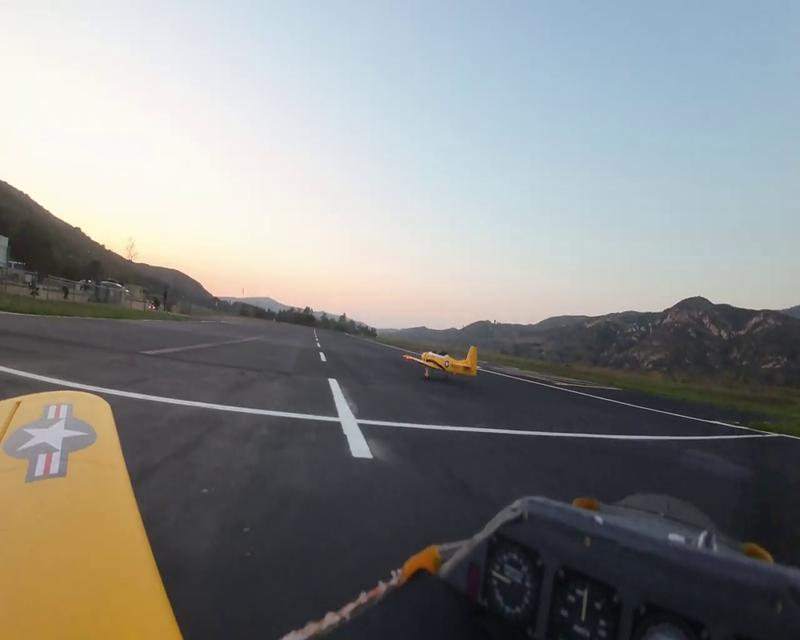UAV: (401, 344, 478, 379)
